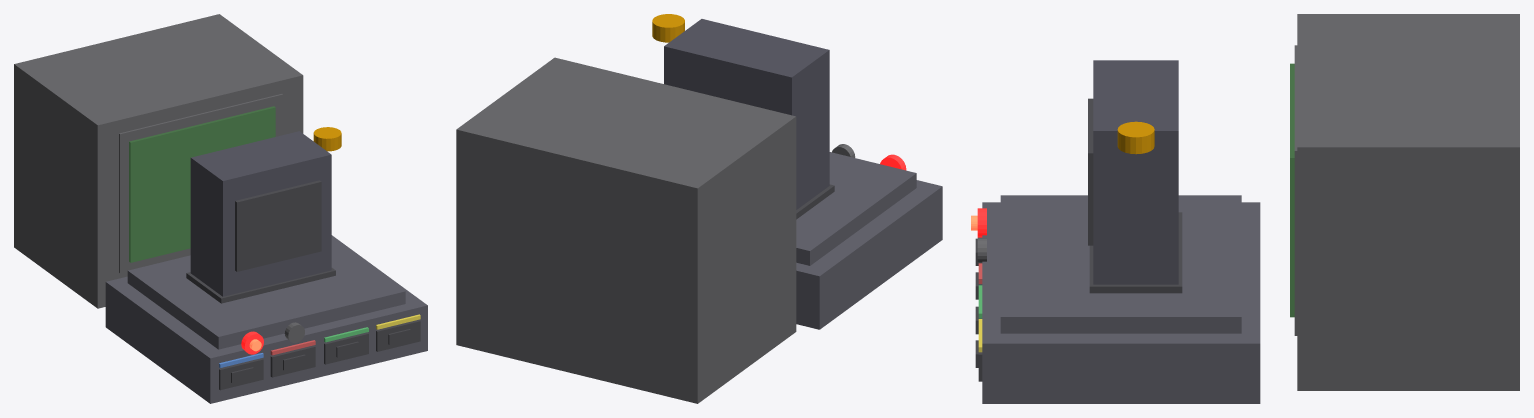
3 renders of one model, left to right at view 1: azimuth 30°, elevation 25°; view 2: azimuth 150°, elevation 25°; view 3: azimuth 270°, elevation 25°, orthographic. The views are drawn at different scales.
Parts seen in each view (by area): view 1: crt_body, n64_cart, n64_main, n64_mid, screen, n64_cart_label, screen_bezel, n64_slot, n64_port_1_bg, n64_port_3_bg, n64_port_2_bg, n64_port_0_bg (+1 smaller); view 2: crt_body, n64_cart, n64_main, n64_mid, knob_reset; view 3: crt_body, n64_main, n64_mid, n64_cart, n64_slot, screen, screen_bezel, knob_reset, n64_cart_label.
Boxes of the visible parts, x1,y1,x2,y2 form: crt_body: [14, 14, 303, 308]; n64_cart: [190, 131, 331, 296]; n64_main: [105, 235, 427, 403]; n64_mid: [127, 237, 405, 349]; screen: [129, 106, 275, 262]; n64_cart_label: [235, 180, 321, 271]; screen_bezel: [119, 94, 282, 273]; n64_slot: [186, 268, 335, 303]; n64_port_1_bg: [270, 346, 315, 377]; n64_port_3_bg: [376, 320, 420, 351]; n64_port_2_bg: [324, 333, 368, 364]; n64_port_0_bg: [219, 358, 263, 390]; crt_body: [456, 57, 796, 403]; n64_cart: [664, 19, 829, 209]; n64_main: [796, 180, 942, 329]; n64_mid: [796, 152, 916, 265]; knob_reset: [652, 14, 684, 42]; crt_body: [1297, 14, 1519, 390]; n64_main: [982, 202, 1260, 403]; n64_mid: [1000, 195, 1241, 333]; n64_cart: [1093, 60, 1178, 284]; n64_slot: [1089, 212, 1182, 293]; screen: [1290, 63, 1294, 317]; screen_bezel: [1294, 45, 1297, 335]; knob_reset: [1117, 121, 1154, 154]; n64_cart_label: [1088, 98, 1093, 245].
Bounding box in the file's own units: 1.8 × 1.5 × 2.96.
